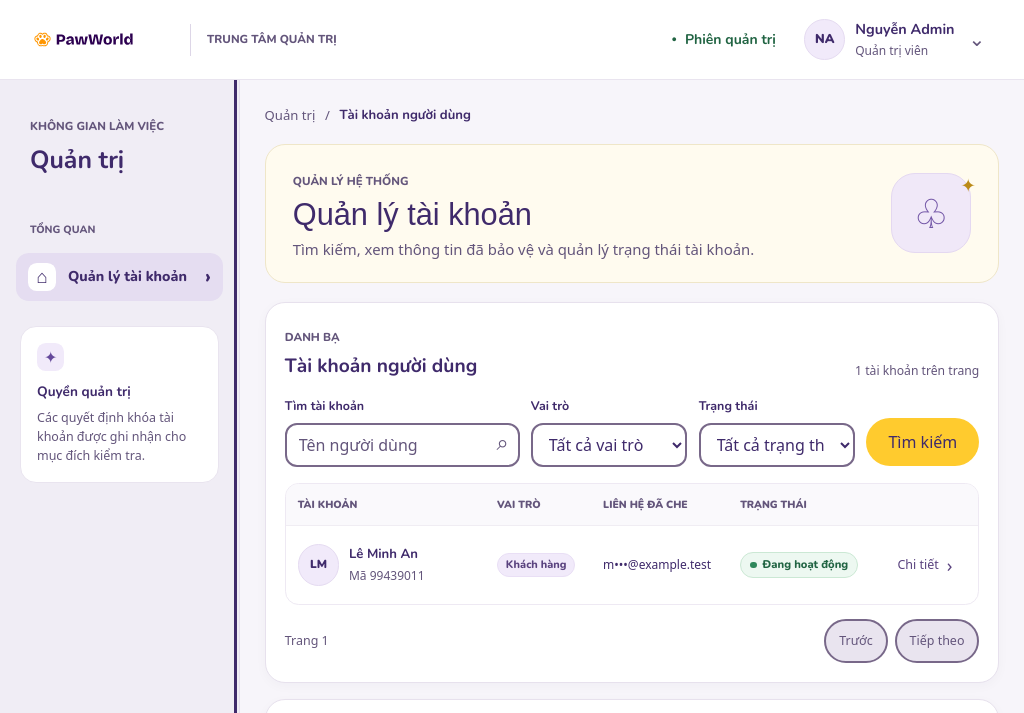
Scenario: changes roles from details only after confirmation and refreshes acknowledged roles
Click the button with aria-label "Xem chi tiết Lê Minh An".
click(925, 565)  # box [887,539,962,591]
(page scrolled)
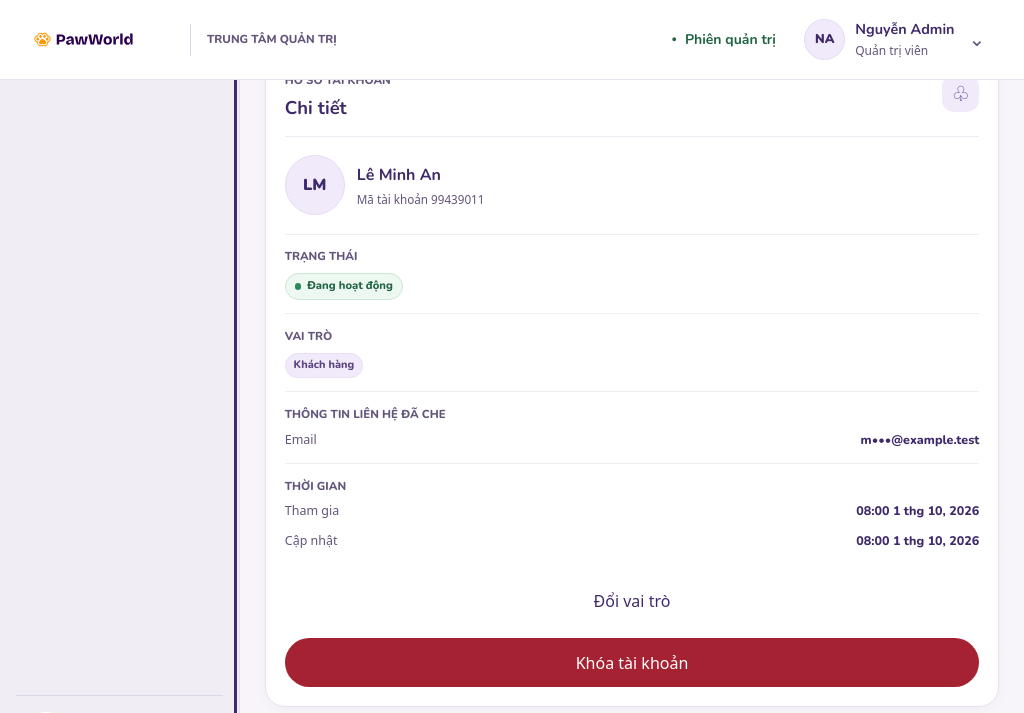
Click the button "Đổi vai trò".
click(632, 601)  # box [285,577,979,626]
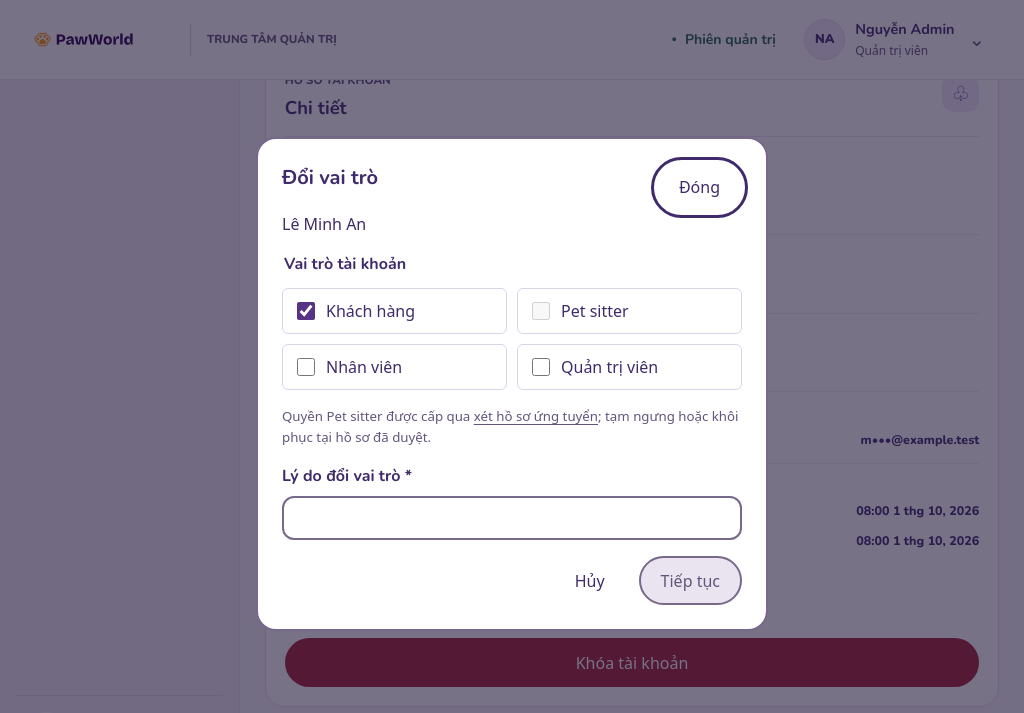
Expected: the checkbox labelled "Pet sitter" is disabled, [532,302,550,320]
Click the checkbox labelled "Nhân viên".
click(306, 367)  # box [297,358,315,376]
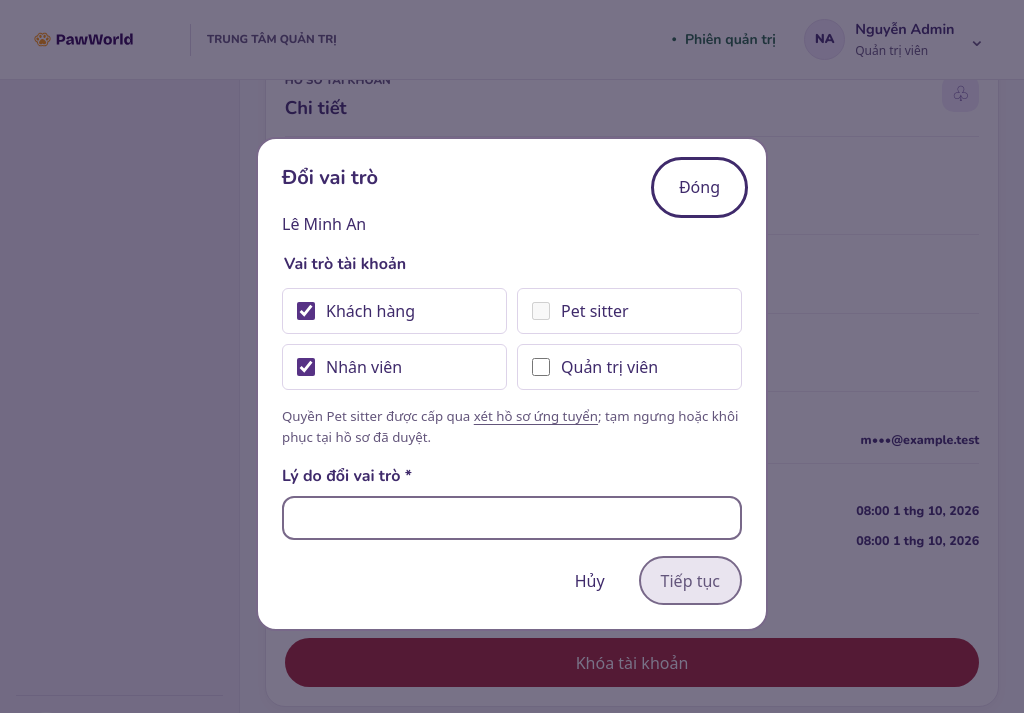
Type "Phân công hỗ trợ vận hành" into the field labelled "Lý do đổi vai trò *".
click(512, 518); type("Phân công hỗ trợ vận hành")  # box [282,496,742,540]
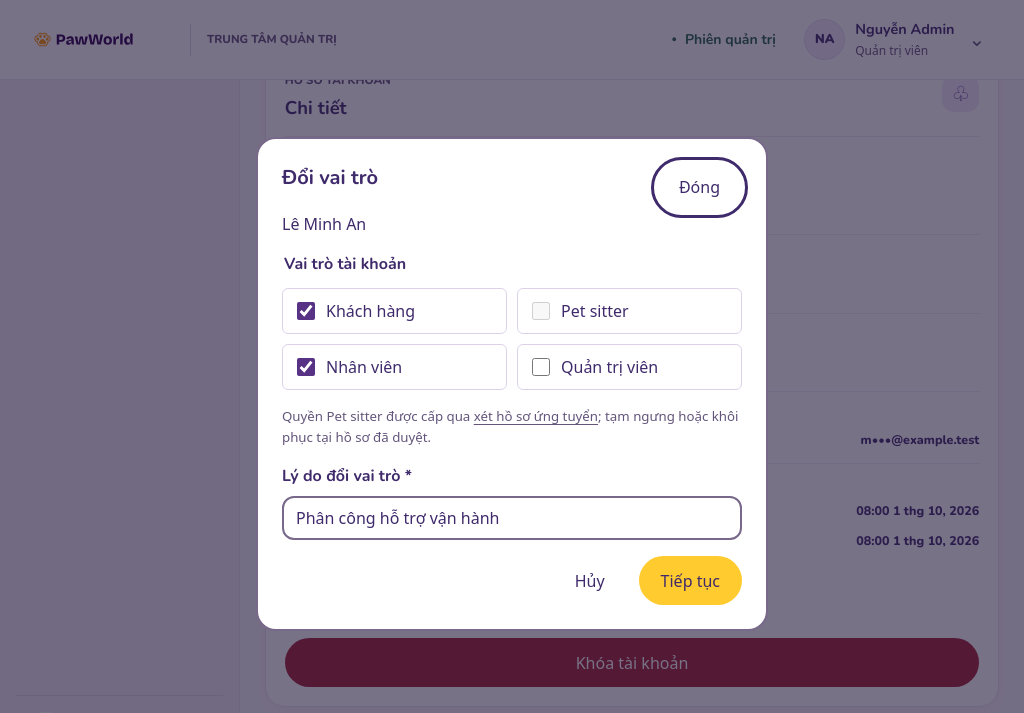
Click the button "Tiếp tục".
click(690, 581)  # box [639,556,742,605]
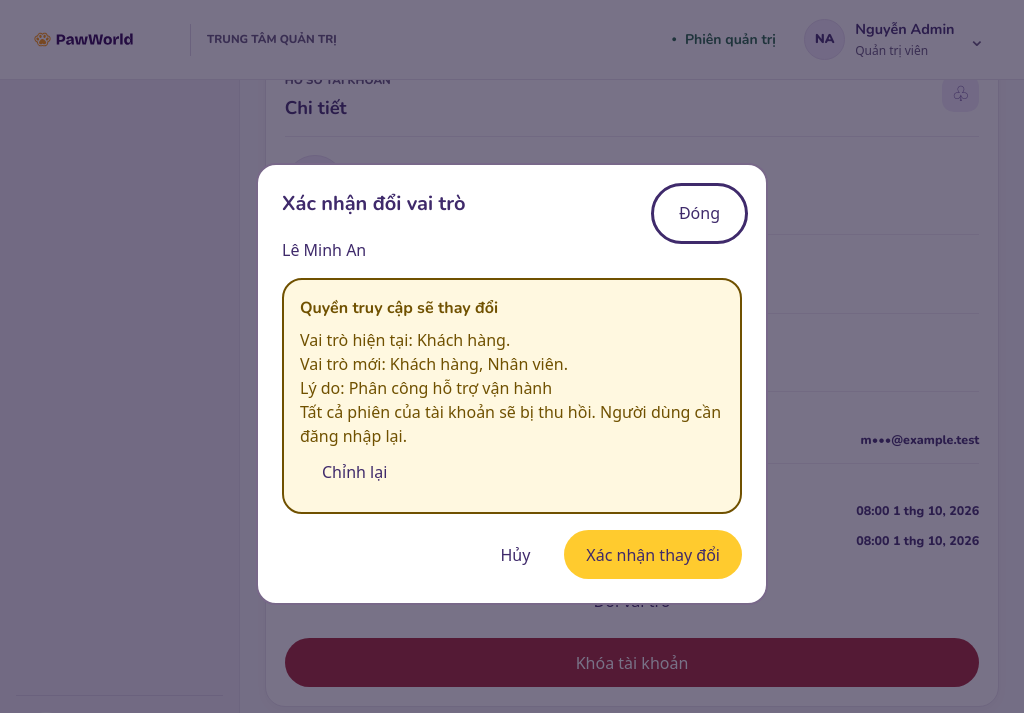
Click the button "Xác nhận thay đổi".
click(653, 555)  # box [564,530,742,579]
(page scrolled)
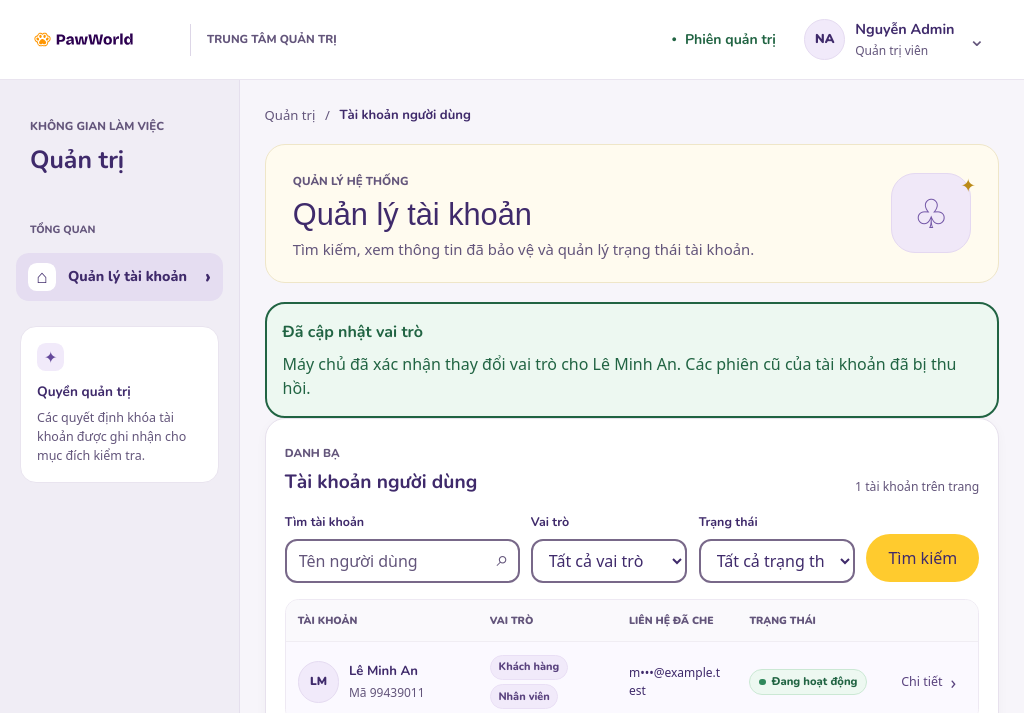
Expected: the heading "Đã cập nhật vai trò" is shown, [283,321,423,343]
